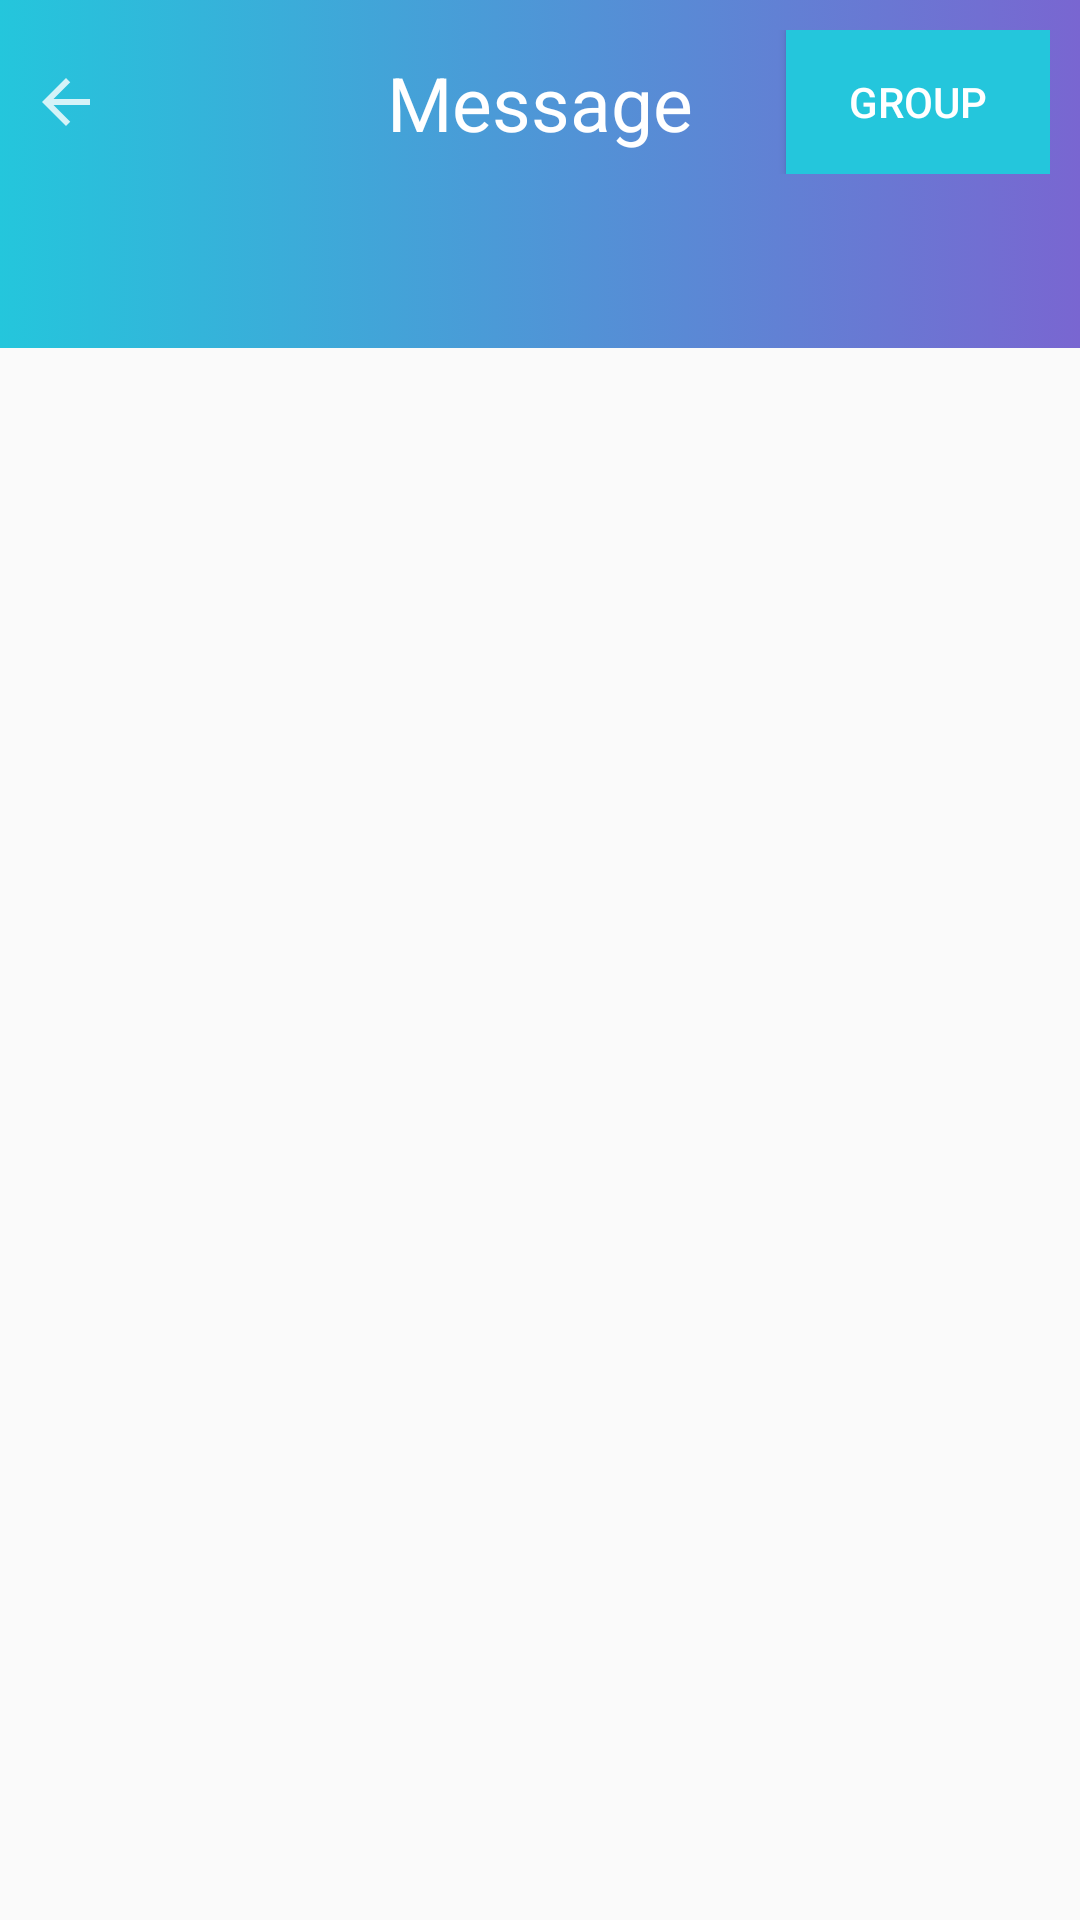

Icons on this 1080*1920 Android screen, each with its box as (x1, y1, x2, y2):
arrow back: (42, 78, 90, 126)
